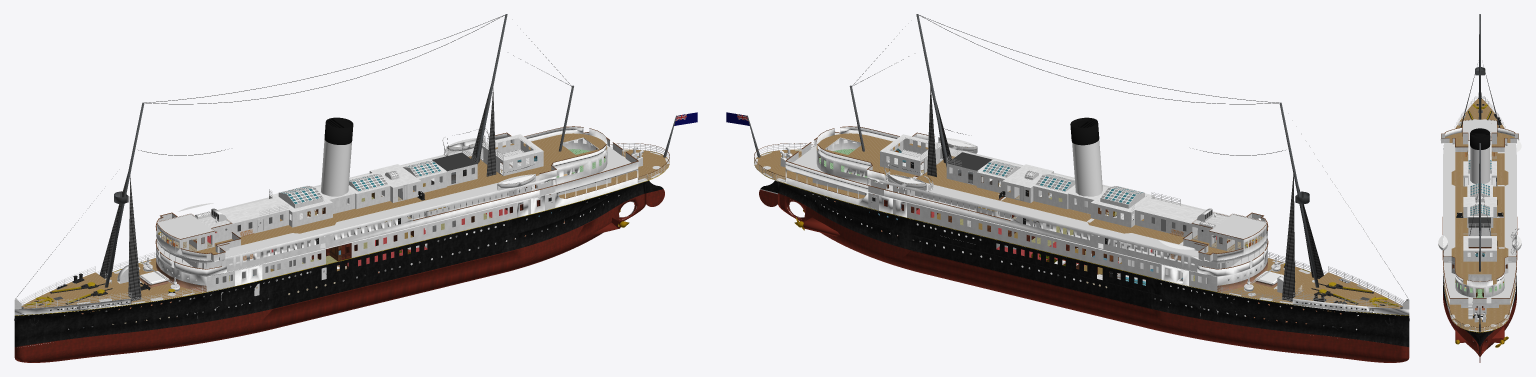
File: cruise_liner_1900.glb
3 views of the same model, side by side, from view 1: azimuth 30°, elevation 25°; view 2: azimuth 150°, elevation 25°; view 3: azimuth 270°, elevation 25° (orthographic). The views are drawn at different scales.
Visible parts, largest first — view 1: Object_50, Object_18, Object_14, Object_36, Object_19, Object_1256, Object_49, Object_43, Object_10, Object_29, Object_44, Object_17063 (+1 smaller); view 2: Object_50, Object_18, Object_14, Object_36, Object_19, Object_1256, Object_49, Object_43, Object_10, Object_29, Object_44, Object_17063; view 3: Object_36, Object_50, Object_19, Object_14, Object_49, Object_10, Object_43, Object_17063, Object_18, Object_1256, Object_20, Object_1179 (+9 smaller).
Part boxes in pixels (left/top/right/bottom): Object_50: left=14, top=127, right=669, bottom=315; Object_18: left=14, top=169, right=663, bottom=346; Object_14: left=14, top=189, right=664, bottom=362; Object_36: left=21, top=133, right=669, bottom=308; Object_19: left=28, top=128, right=669, bottom=346; Object_1256: left=99, top=85, right=496, bottom=301; Object_49: left=105, top=137, right=625, bottom=282; Object_43: left=83, top=14, right=676, bottom=328; Object_10: left=155, top=126, right=669, bottom=269; Object_29: left=15, top=150, right=668, bottom=315; Object_44: left=15, top=15, right=571, bottom=298; Object_17063: left=324, top=117, right=353, bottom=144; Object_50: left=754, top=127, right=1409, bottom=315; Object_18: left=755, top=162, right=1409, bottom=346; Object_14: left=759, top=189, right=1409, bottom=362; Object_36: left=754, top=133, right=1402, bottom=308; Object_19: left=754, top=139, right=1283, bottom=291; Object_1256: left=927, top=85, right=1323, bottom=301; Object_49: left=811, top=137, right=1283, bottom=282; Object_43: left=747, top=14, right=1341, bottom=329; Object_10: left=754, top=126, right=1268, bottom=284; Object_29: left=754, top=149, right=1408, bottom=315; Object_44: left=852, top=15, right=1407, bottom=297; Object_17063: left=1070, top=117, right=1099, bottom=145; Object_36: left=1444, top=99, right=1515, bottom=331; Object_50: left=1441, top=92, right=1518, bottom=331; Object_19: left=1441, top=119, right=1519, bottom=341; Object_14: left=1443, top=292, right=1516, bottom=362; Object_49: left=1439, top=139, right=1520, bottom=318; Object_10: left=1441, top=119, right=1518, bottom=327; Object_43: left=1475, top=14, right=1488, bottom=335; Object_17063: left=1470, top=128, right=1490, bottom=149; Object_18: left=1443, top=177, right=1516, bottom=353; Object_1256: left=1460, top=64, right=1499, bottom=235; Object_20: left=1468, top=217, right=1490, bottom=227; Object_1179: left=1468, top=131, right=1491, bottom=214.
Size of the model in its own units: 124 by 41.54 by 17.99.
82 materials, 62 textured.
